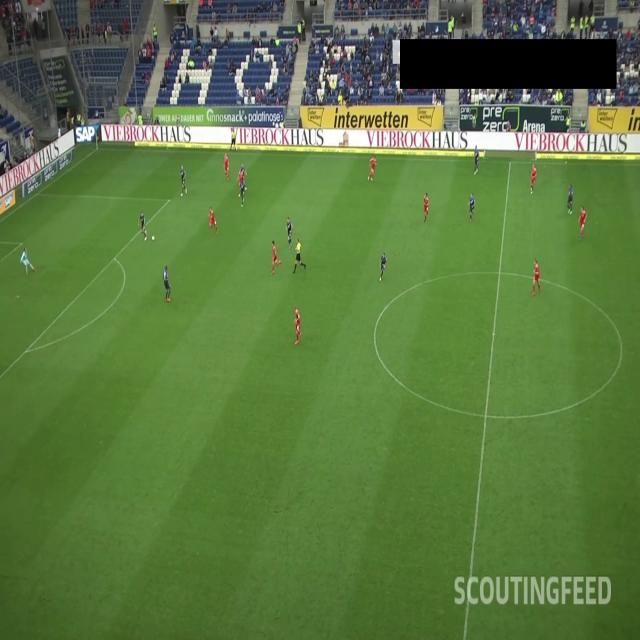ball: (150, 228, 157, 245)
player: (268, 237, 280, 276), (20, 246, 35, 276), (163, 261, 173, 301), (293, 304, 302, 348), (378, 249, 388, 285), (532, 259, 540, 298), (207, 201, 217, 231), (368, 154, 378, 184), (180, 161, 188, 196), (284, 214, 294, 242), (473, 143, 481, 178), (579, 206, 587, 237), (139, 210, 147, 240), (565, 187, 574, 213), (222, 150, 230, 178), (423, 189, 430, 221), (468, 189, 474, 220), (240, 164, 247, 186), (238, 183, 244, 207), (532, 162, 536, 196), (239, 171, 244, 195)
